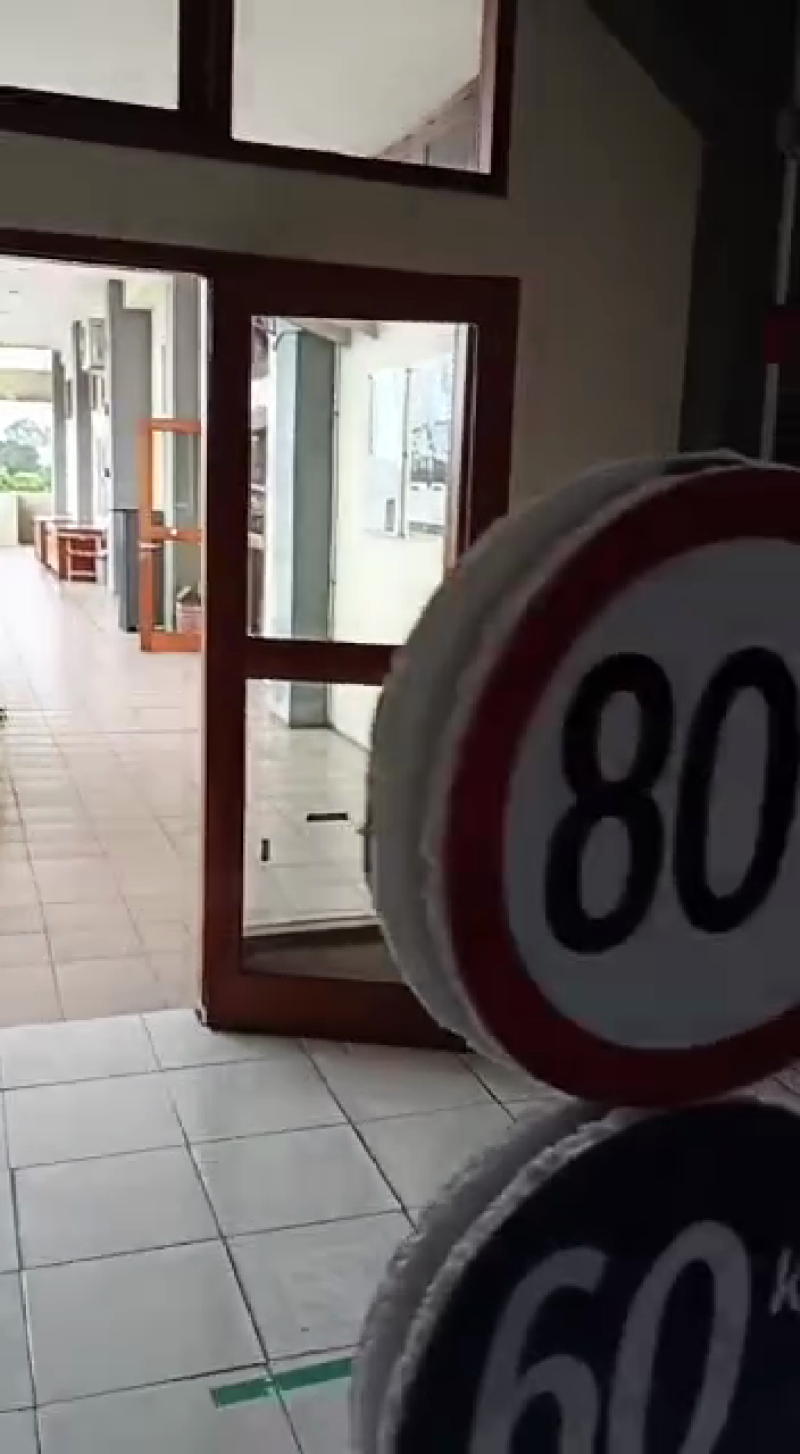batas maksimal 80kmperjam minimal 60kmperjam: (371, 456, 800, 1454)
